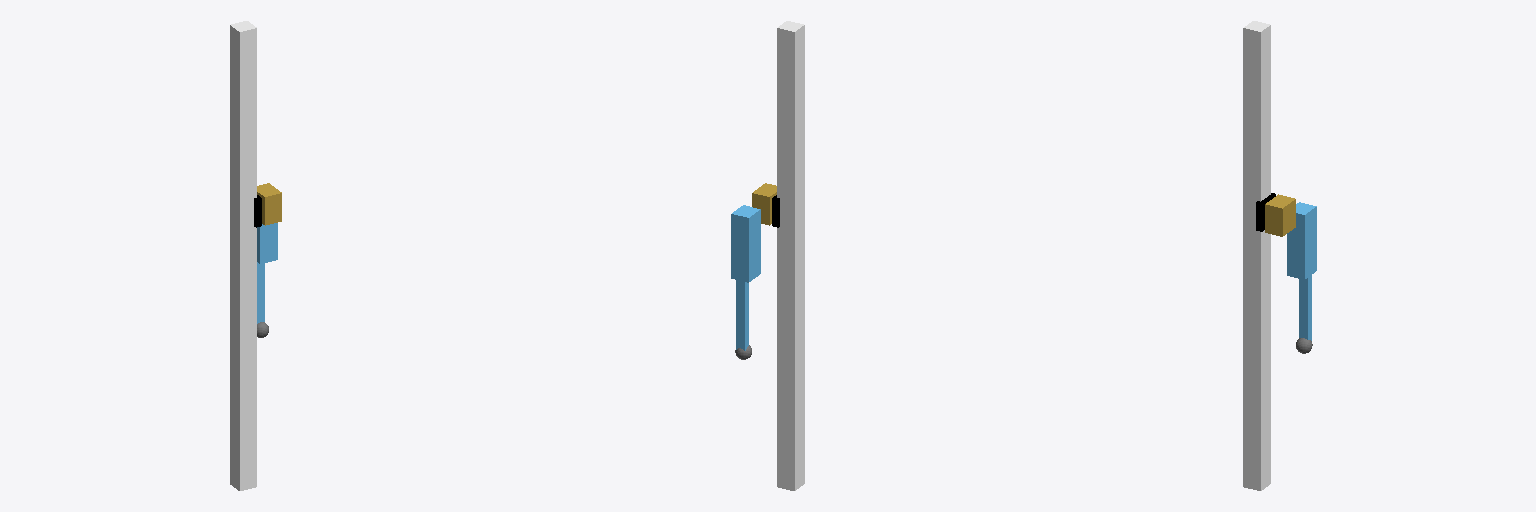
The robot description file, URDF, robot "leg":
<?xml version="1.0" ?>
<!-- author = [author] -->


<robot name="leg" xmlns:xacro="http://www.ros.org/wiki/xacro">


    <gazebo>
        <plugin filename="libgazebo_ros_control.so" name="gazebo_ros_control">
            <robotNamespace>/leg</robotNamespace>
            <robotSimType>
                gazebo_ros_control/DefaultRobotHWSim
            </robotSimType>
        </plugin>
    </gazebo>


    <material name="black">
        <color rgba="0.0 0.0 0.0 1.0"/>
    </material>
    <material name="blue">
        <color rgba="0.0 0.0 0.8 1.0"/>
    </material>
    <material name="green">
        <color rgba="0.0 0.8 0.0 1.0"/>
    </material>
    <material name="grey">
        <color rgba="0.2 0.2 0.2 1.0"/>
    </material>
    <material name="silver">
        <color rgba="0.913725490196 0.913725490196 0.847058823529 1.0"/>
    </material>
    <material name="orange">
        <color rgba="1.0 0.423529411765 0.0392156862745 1.0"/>
    </material>
    <material name="brown">
        <color rgba="0.870588235294 0.811764705882 0.764705882353 1.0"/>
    </material>
    <material name="white_gray">
        <color rgba="0.823529411765 0.823529411765 0.823529411765 1.0"/>
    </material>
    <material name="gold">
        <color rgba="0.811764705882 0.678431372549 0.301960784314 1.0"/>
    </material>
    <material name="white_blue">
        <color rgba="0.462745098039 0.8 0.992156862745 1.0"/>
    </material>
    <material name="white_black">
        <color rgba="0.494117647059 0.494117647059 0.494117647059 1.0"/>
    </material>
    <material name="red">
        <color rgba="0.8 0.0 0.0 1.0"/>
    </material>
    <material name="white">
        <color rgba="1.0 1.0 1.0 1.0"/>
    </material>

    <gazebo refrence="trunk_inertia">
        <mu1>0.9</mu1>
        <mu2>0.9</mu2>
        <material>Gazebo/White</material>
    </gazebo>

    <link name="trunk_inertia">
        <inertial>

        </inertial>
    </link>

    <link name="trunk">
        <visual>
        <origin rpy="0 0 0" xyz="0 0 0.75"/>
        <geometry>
            <box size="0.06 0.06 1.5"/>
        </geometry>
        <material name="white"/>
        </visual>
        <collision>
            <origin rpy="0 0 0" xyz="0 0 0.75"/>
            <geometry>
                <box size="0.06 0.06 1.5"/>
            </geometry>
        </collision>
        <inertial>
            <origin rpy="0 0 0" xyz="0 0 0.75"/>
            <mass value="100"/>
            <inertia ixx="0.011253" ixy="0" ixz="0.0" iyy="0.036203" iyz="-0.0" izz="0.042673"/>
            </inertial>
        </link>
    <joint name="trunk_to_trunk_inertia" type="fixed">
        <origin rpy="0 0 0" xyz="0 0 0"/>
        <parent link="trunk_inertia"/>
        <child link="trunk"/>
    </joint>

    <joint name="jumper" type="prismatic">
        <parent link="trunk"/>
        <axis xyz="0 0 1"/>
        <child link="jump"/>
        <limit effort="20" lower="-0.7" upper="0.5" velocity="0.5"/>
        <origin rpy="0 0 0" xyz="0 0 0.9"/>
        <dynamics damping="0.1" friction="1"/>
    </joint>

    <link name="jump">
        <visual>
            <origin rpy="0 0 0" xyz="0.03 0 0"/>
            <geometry>
                <box size="0.02 0.08 0.093"/>
            </geometry>
            <material name="black"/>
        </visual>
        <collision>
            <origin rpy="0 0 0" xyz="0.03 0 0"/>
            <geometry>
                <box size="0.02 0.08 0.093"/>
            </geometry>
        </collision>
        <inertial>
            <origin rpy="0 0 0" xyz="0.01 0 0"/>
            <mass value="0.002"/>
            <inertia ixx="0.0007148275" ixy="0.0" ixz="0.0" iyy="0.0007955775" iyz="0.0" izz="0.00068875"/>
        </inertial>
    </link>

   <!-- //////////////////////hip//////////////////// -->
    <joint name="hip_joint" type="revolute">
        <origin rpy="0 0 0" xyz="0.05 0 0"/>
        <parent link="jump"/>
        <child link="hip"/>
        <axis xyz="1 0 0"/>
        <dynamics damping="0.1" friction="0.1"/>
        <limit effort="20" lower="-0.872664625997" upper="1.0471975512" velocity="1.6"/>
  </joint>

  <link name="hip">
    <visual>
      <origin rpy="0 0 0" xyz="0.03 0 0"/>
      <geometry>
        <box size="0.06 0.08 0.093"/>
      </geometry>
      <material name="gold"/>
    </visual>
    <collision>
      <origin rpy="0 0 0" xyz="0.03 0 0"/>
      <geometry>
        <box size="0.06 0.08 0.093"/>
      </geometry>
    </collision>
    <inertial>
      <origin rpy="0 0 0" xyz="0.03 0 0.0"/>
      <mass value="0.63"/>
      <inertia ixx="0.0007148275" ixy="0.0" ixz="0.0" iyy="0.0007955775" iyz="0.0" izz="0.00068875"/>
    </inertial>
  </link>

    <!-- ///////////////////thigh/////////////////////// -->
    <joint name="thigh_joint" type="revolute">
    <origin rpy="0 0 0" xyz="0.06 0.015 0"/>
    <parent link="hip"/>
    <child link="thigh"/>
    <axis xyz="0 1 0"/>
    <dynamics damping="0.1" friction="0.1" />
    <limit effort="20" lower="-0.523598775598" upper="3.92699081699" velocity="1.6"/>
  </joint>

  <link name="thigh">
    <visual>
      <origin rpy="0 0 0" xyz="0 0.06 -0.105915"/>
      <geometry>
        <box size="0.06 0.07125 0.21183"/>
      </geometry>
      <material name="white_blue"/>
    </visual>
    <collision>
      <origin rpy="0 0 0" xyz="0 0.06 -0.105915"/>
      <geometry>
        <box size="0.06 0.07125 0.21183"/>
      </geometry>
      <material name="white_blue"/>
    </collision>
    <inertial>
      <origin rpy="0 0 0" xyz="0.0 0.06 -0.105915"/>
      <mass value="1.062"/>
      <inertia ixx="0.00261820866667" ixy="0.0" ixz="0.0" iyy="0.00265482216667" iyz="0.0" izz="0.000158764166667"/>
    </inertial>
  </link>

  <!-- //////////////////////calf//////////////////// -->
  <joint name="calf_joint" type="revolute">
    <origin rpy="0 0 0" xyz="0 0.07125 -0.21183"/>
<!--    <origin rpy="0 0 0" xyz="0 0.01 -0.1881"/>-->
    <parent link="thigh"/>
    <child link="calf"/>
    <axis xyz="0 1 0"/>
    <dynamics damping="0.1" friction="0.1"/>
    <limit effort="20" lower="-3.14159265359" upper="3.14159265359" velocity="1.6"/>
  </joint>
  <link name="calf">
    <visual>
      <origin rpy="0 0 0" xyz="0.0 0.01 -0.120"/>
      <geometry>
        <box size="0.03 0.02 0.240"/>
          <!--mesh filename="package://first_leg/mesh/calf.dae" scale="1 1 1"/-->
      </geometry>
      <material name="white_blue"/>
    </visual>
    <collision>
      <origin rpy="0 0 0" xyz="0.0 0.01 -0.120"/>
      <geometry>
          <box size="0.03 0.02 0.240"/>
        <!--mesh filename="package://first_leg/mesh/Sim_0_00_04.STL" scale="1 1 1"/-->
      </geometry>
    </collision>
    <inertial>
      <origin rpy="0 0 0" xyz="0.0 0.0 -0.120"/>
      <mass value="0.133"/>
      <inertia ixx="0.000214698666667" ixy="0.0" ixz="0.0" iyy="0.000214698666667" iyz="0.0" izz="2.73066666667e-06"/>
    </inertial>
  </link>
  <!-- //////////////////////foot//////////////////// -->
  <joint name="foot_fixed" type="fixed">
    <origin rpy="0 0 0" xyz="0 0 -0.240"/>
<!--    <origin rpy="0 0 0" xyz="0 0.01 -0.1881"/>-->
    <parent link="calf"/>
    <child link="foot"/>
    <axis xyz="0 1 0"/>
    <dynamics damping="0.1" friction="0.1"/>
    <limit effort="20" lower="-3.14159265359" upper="3.14159265359" velocity="10.6"/>
  </joint>

  <link name="foot">
    <visual>
      <origin rpy="0 0 0" xyz="0 0.002 0"/>
      <geometry>
        <sphere radius="0.025"/>
      </geometry>
      <material name="white_black"/>
    </visual>
    <collision>
      <origin rpy="0 0 0" xyz="0 0.002 0"/>
      <geometry>
        <sphere radius="0.025"/>
      </geometry>
    </collision>
    <inertial>
      <origin rpy="0 0 0" xyz="0 0.002 0"/>
      <mass value="0.005"/>
      <inertia ixx="4.2135e-05" ixy="0.0" ixz="0.0" iyy="4.2135e-05" iyz="0.0" izz="4.2135e-05"/>
    </inertial>
  </link>


  <!--/////////////// transmission tags ////////////////////// -->

    <transmission name="jump_trans">
    <type>transmission_interface/SimpleTransmission</type>
    <joint name="jumper">
      <hardwareInterface>hardware_interface/EffortJointInterface</hardwareInterface>
    </joint>
    <actuator name="jump_motor">
      <hardwareInterface>hardware_interface/EffortJointInterface</hardwareInterface>
      <mechanicalReduction>1</mechanicalReduction>
    </actuator>
  </transmission>
  <transmission name="hip_tran">
    <type>transmission_interface/SimpleTransmission</type>
    <joint name="hip_joint">
      <hardwareInterface>hardware_interface/EffortJointInterface</hardwareInterface>
    </joint>
    <actuator name="hip_motor">
      <hardwareInterface>hardware_interface/EffortJointInterface</hardwareInterface>
      <mechanicalReduction>1</mechanicalReduction>
    </actuator>
  </transmission>
  <transmission name="thigh_tran">
    <type>transmission_interface/SimpleTransmission</type>
    <joint name="thigh_joint">
      <hardwareInterface>hardware_interface/EffortJointInterface</hardwareInterface>
    </joint>
    <actuator name="thigh_motor">
      <hardwareInterface>hardware_interface/EffortJointInterface</hardwareInterface>
      <mechanicalReduction>1</mechanicalReduction>
    </actuator>
  </transmission>
  <transmission name="calf_tran">
    <type>transmission_interface/SimpleTransmission</type>
    <joint name="calf_joint">
      <hardwareInterface>hardware_interface/EffortJointInterface</hardwareInterface>
    </joint>
    <actuator name="calf_motor">
      <hardwareInterface>hardware_interface/EffortJointInterface</hardwareInterface>
      <mechanicalReduction>1</mechanicalReduction>
    </actuator>
  </transmission>
</robot>

--- Facts derived from the render (not from the file) ---
3 views of the same robot in one strip: view 1: azimuth 30°, elevation 25°; view 2: azimuth 150°, elevation 25°; view 3: azimuth 330°, elevation 25° (orthographic).
Robot: leg — 7 links, 6 joints (3 revolute, 1 prismatic, 2 fixed); root link trunk_inertia; default pose: all joints at 0.
Links seen in each view (by area): view 1: trunk, hip, thigh; view 2: trunk, thigh, calf, hip; view 3: trunk, thigh, hip, calf.
Link boxes in pixels (bbox=[...]): trunk: bbox=[230, 21, 256, 490]; hip: bbox=[257, 183, 281, 225]; thigh: bbox=[257, 223, 277, 263]; trunk: bbox=[777, 21, 804, 490]; thigh: bbox=[731, 205, 760, 282]; calf: bbox=[736, 280, 748, 350]; hip: bbox=[752, 183, 776, 225]; trunk: bbox=[1243, 21, 1270, 490]; thigh: bbox=[1287, 202, 1316, 279]; hip: bbox=[1265, 194, 1295, 236]; calf: bbox=[1299, 275, 1311, 340].
Bounding box of the posed robot: 0.17 × 0.1533 × 1.5 m (x, y, z).
Geometry: primitives only (box / cylinder / sphere), no mesh files.